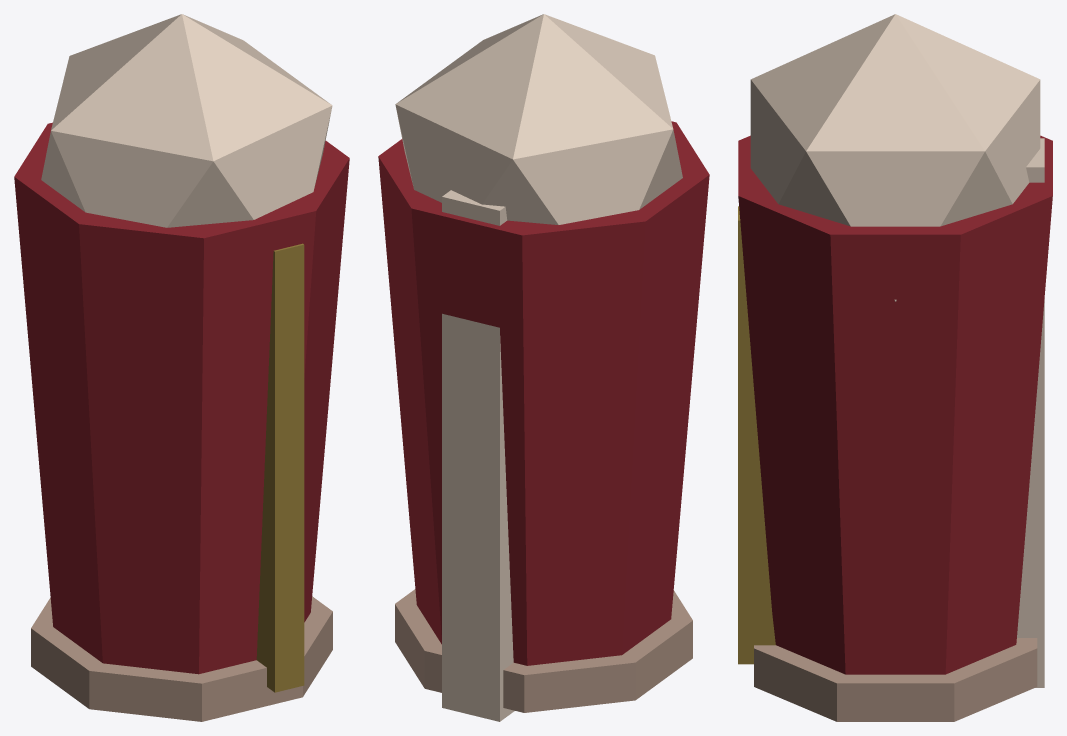
Rendered from inf_v2_runner_lower_arm.fbx.
The picture shows the model from 3 angles, left to right: view 1: azimuth 30°, elevation 25°; view 2: azimuth 150°, elevation 25°; view 3: azimuth 270°, elevation 25°; orthographic projection.
Parts seen in each view (by area): view 1: inf_v2_runner_lower_arm; view 2: inf_v2_runner_lower_arm; view 3: inf_v2_runner_lower_arm.
Boxes of the visible parts, box(x1,y1,x2,y2) form: inf_v2_runner_lower_arm: box(14, 14, 349, 721); inf_v2_runner_lower_arm: box(378, 14, 709, 721); inf_v2_runner_lower_arm: box(738, 14, 1052, 721).
Bounding box in the file's own units: 73.91 × 171 × 73.96.
